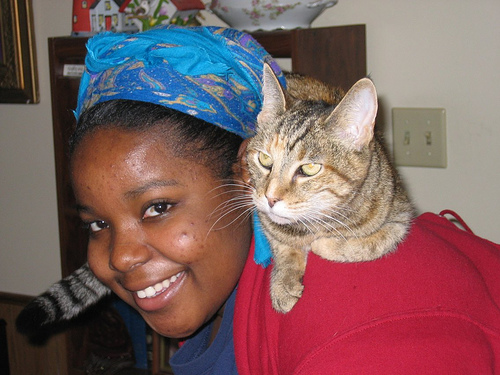without_mask: (64, 91, 257, 335)
